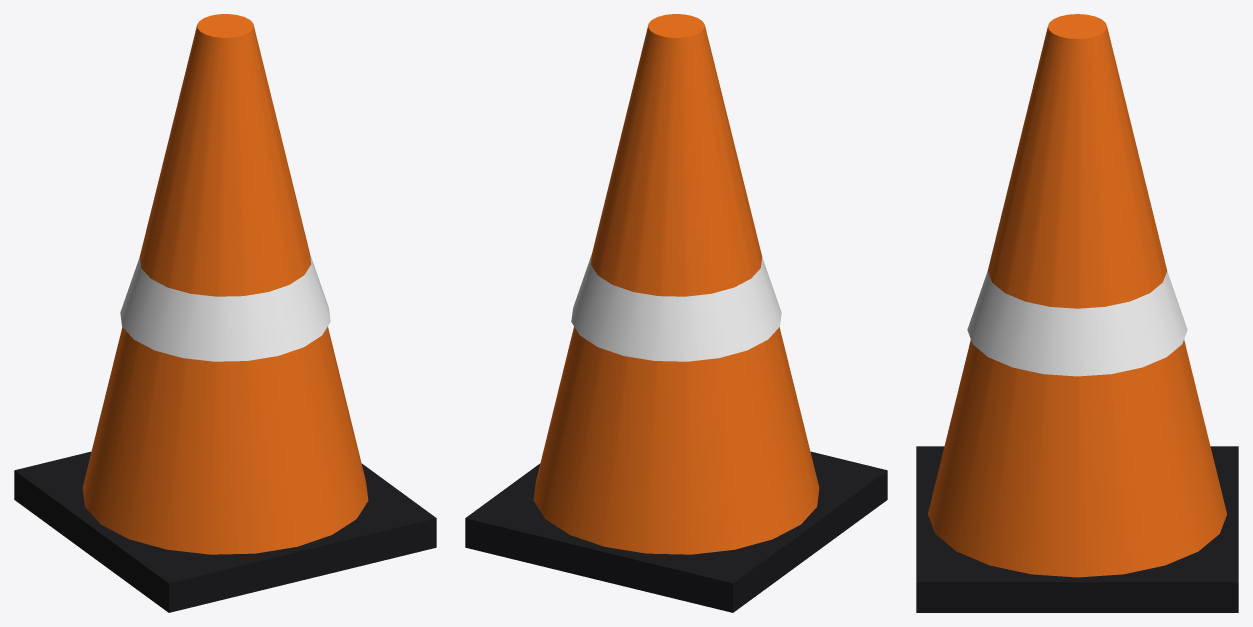
The model's file is traffic_cone.glb.
The picture shows the model from 3 angles, left to right: view 1: azimuth 30°, elevation 25°; view 2: azimuth 150°, elevation 25°; view 3: azimuth 270°, elevation 25°; orthographic projection. The views are drawn at different scales.
Visible parts, largest first — view 1: Cone_Body, Cone_Base, Cone_Collar; view 2: Cone_Body, Cone_Base, Cone_Collar; view 3: Cone_Body, Cone_Base, Cone_Collar.
Boxes of the visible parts, left/top/right/bottom form: Cone_Body: left=82, top=14, right=368, bottom=554; Cone_Base: left=14, top=451, right=436, bottom=612; Cone_Collar: left=120, top=254, right=330, bottom=361; Cone_Body: left=533, top=14, right=819, bottom=554; Cone_Base: left=465, top=451, right=887, bottom=612; Cone_Collar: left=571, top=254, right=781, bottom=361; Cone_Body: left=928, top=14, right=1226, bottom=577; Cone_Base: left=916, top=446, right=1238, bottom=612; Cone_Collar: left=967, top=271, right=1187, bottom=376.
Size of the model in its own units: 0.38 by 0.675 by 0.38.
